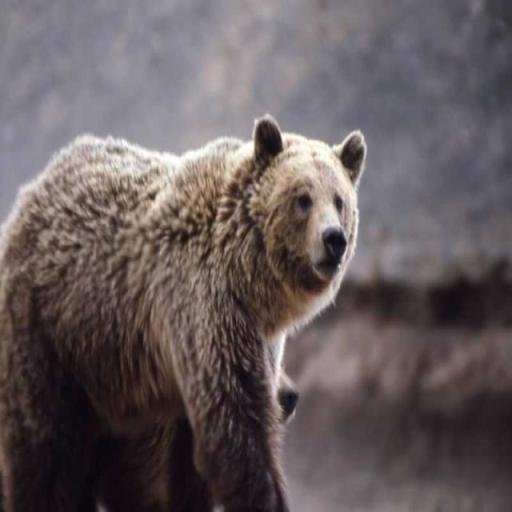Bear: (0, 113, 366, 511)
